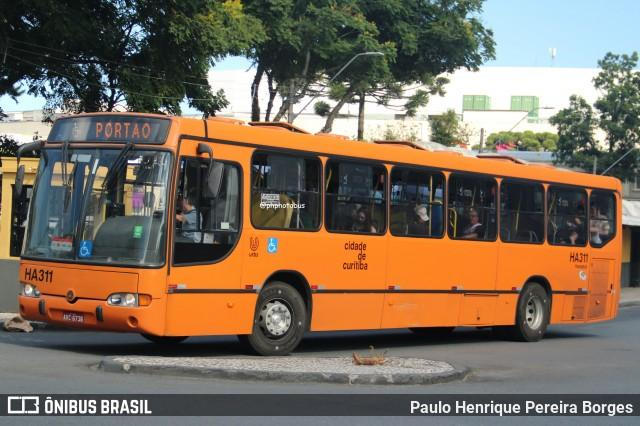PORTAO: (91, 117, 155, 143)
